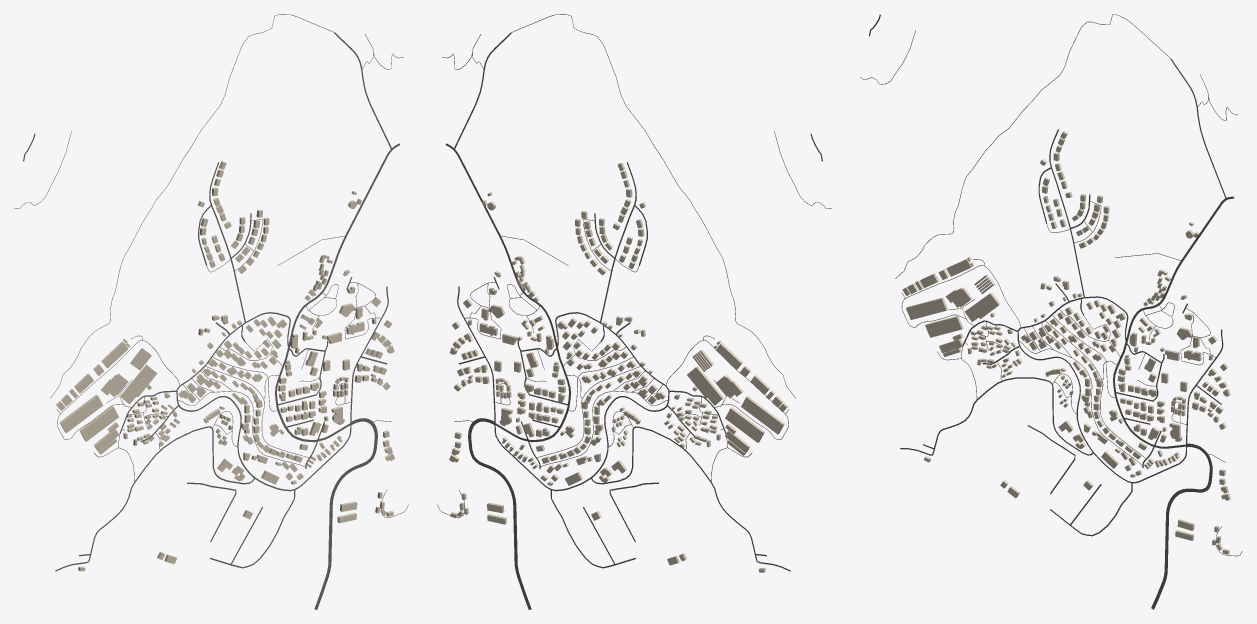
File: historic-palestine-10_28_3515_3221.glb
3 views of the same model, side by side, from view 1: azimuth 30°, elevation 25°; view 2: azimuth 150°, elevation 25°; view 3: azimuth 330°, elevation 25° (orthographic). The views are drawn at different scales.
Visible parts, largest first — view 1: Road .023, Road 5501, Building_.067, Building_.060, Road .013, Building_.068, Road .022; view 2: Road .023, Road 5501, Building_.067, Building_.060, Road .013, Building_.068, Road .022; view 3: Road .023, Road 5501, Building_.067, Road .013, Building_.068, Building_.060.
Boxes of the visible parts, box(x1,y1,x2,y2) form: Road .023: box(275, 143, 399, 442); Road 5501: box(314, 418, 377, 609); Building_.067: box(59, 394, 102, 433); Building_.060: box(120, 365, 157, 404); Road .013: box(55, 426, 254, 571); Building_.068: box(79, 406, 118, 441); Road .022: box(50, 14, 334, 398); Road .023: box(446, 143, 570, 442); Road 5501: box(468, 418, 531, 609); Building_.067: box(741, 396, 784, 434); Building_.060: box(687, 366, 723, 405); Road .013: box(591, 426, 790, 571); Building_.068: box(725, 407, 764, 442); Road .022: box(511, 14, 795, 398); Road .023: box(1113, 196, 1234, 448); Road 5501: box(1151, 443, 1212, 609); Building_.067: box(906, 297, 948, 319); Road .013: box(900, 377, 1093, 455); Building_.068: box(925, 316, 963, 337); Building_.060: box(964, 292, 1000, 321).
Bounding box in the file's own units: 986 × 1444 × 8.7.
